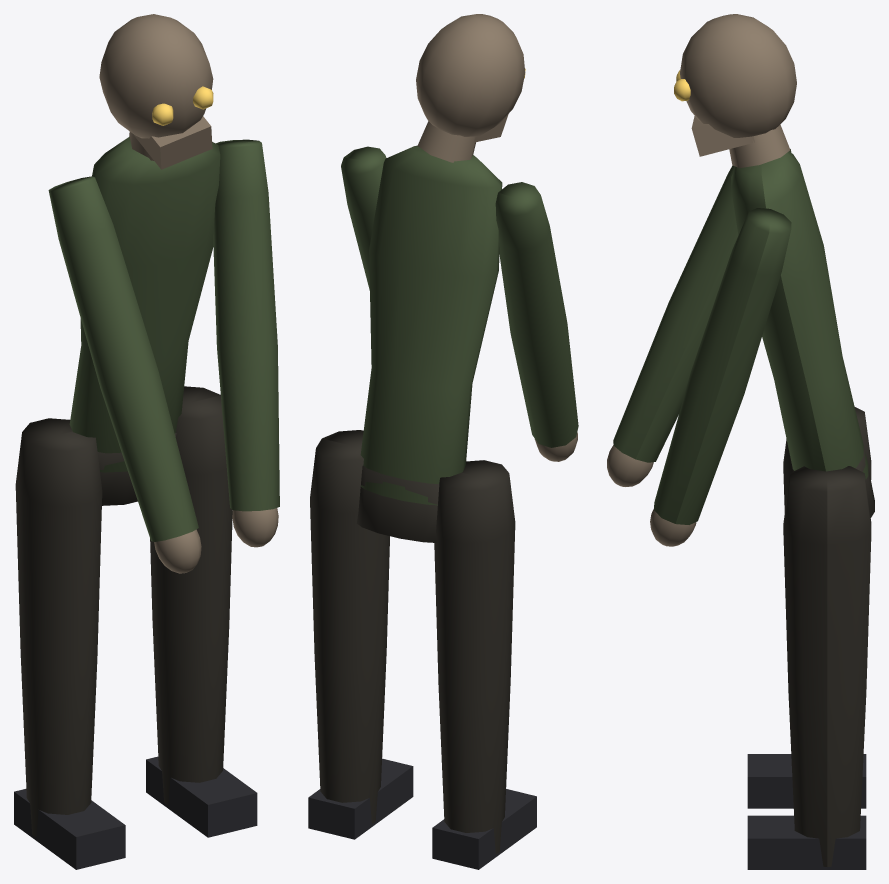
The model's file is husk_stalker.glb.
3 views of the same model, side by side, from view 1: azimuth 30°, elevation 25°; view 2: azimuth 150°, elevation 25°; view 3: azimuth 270°, elevation 25° (orthographic). The views are drawn at different scales.
Parts seen in each view (by area): view 1: husk_stalker; view 2: husk_stalker; view 3: husk_stalker.
Boxes of the visible parts, x1,y1,x2,y2 form: husk_stalker: (14,14,279,869); husk_stalker: (308,14,578,869); husk_stalker: (607,14,874,869).
Size of what is drawn, in the model's own units: 0.5014 by 1.93 by 0.5867.
